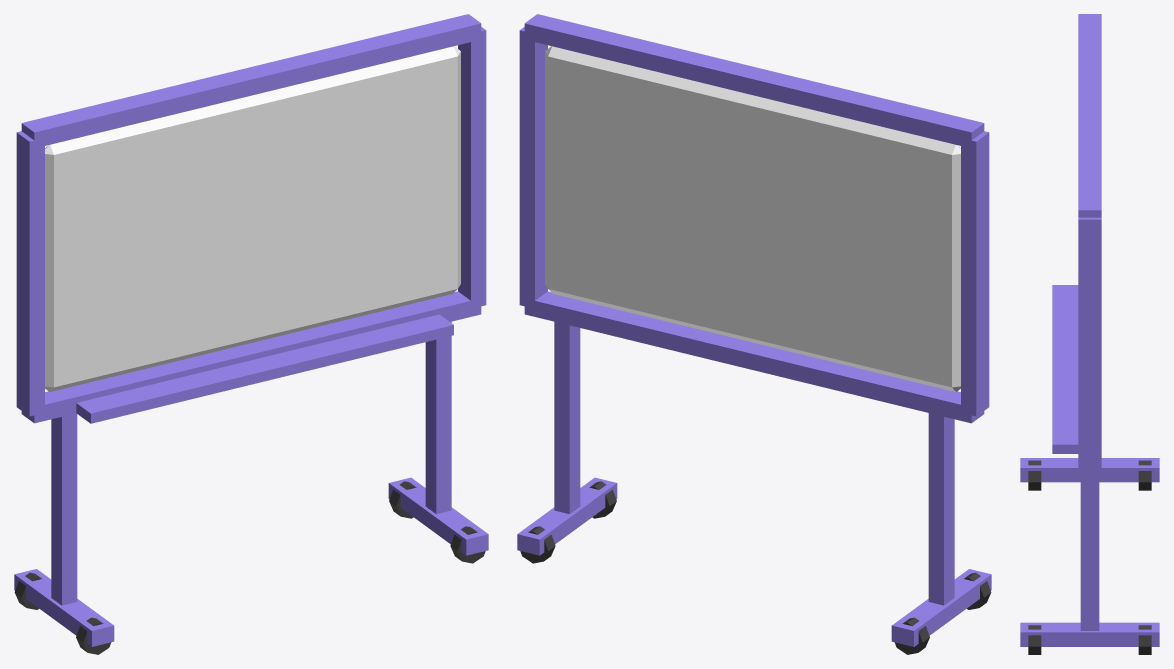
The picture shows the model from 3 angles, left to right: view 1: azimuth 30°, elevation 25°; view 2: azimuth 150°, elevation 25°; view 3: azimuth 270°, elevation 25°; orthographic projection. The views are drawn at different scales.
Visible parts, largest first — view 1: Writing surface, Frame rail.001, Marker ledge, Frame rail, Frame upright, Frame upright.001, Stand, Stand.001, Caster beam.001, Caster beam; view 2: Writing surface, Frame rail.001, Frame rail, Frame upright, Frame upright.001, Stand, Stand.001, Caster beam.001, Caster beam; view 3: Frame upright.001, Frame rail.001, Marker ledge, Stand.001, Caster beam.001, Caster beam, Wheel, Wheel.001, Wheel.002, Wheel.003.
Part boxes in pixels (bbox=[...]): Writing surface: bbox=[45, 46, 460, 391]; Frame rail.001: bbox=[21, 14, 481, 148]; Marker ledge: bbox=[76, 314, 453, 423]; Frame rail: bbox=[21, 291, 481, 423]; Frame upright: bbox=[16, 131, 44, 416]; Frame upright.001: bbox=[458, 27, 486, 306]; Stand: bbox=[51, 413, 77, 605]; Stand.001: bbox=[425, 321, 451, 514]; Caster beam.001: bbox=[388, 477, 488, 555]; Caster beam: bbox=[14, 569, 114, 646]; Writing surface: bbox=[545, 46, 960, 391]; Frame rail.001: bbox=[524, 14, 984, 148]; Frame rail: bbox=[524, 291, 984, 423]; Frame upright: bbox=[961, 131, 989, 416]; Frame upright.001: bbox=[519, 27, 547, 307]; Stand: bbox=[928, 413, 954, 605]; Stand.001: bbox=[554, 321, 580, 514]; Caster beam.001: bbox=[517, 477, 617, 555]; Caster beam: bbox=[891, 569, 991, 646]; Frame upright.001: bbox=[1078, 217, 1101, 467]; Frame rail.001: bbox=[1078, 14, 1101, 217]; Marker ledge: bbox=[1052, 285, 1078, 453]; Stand.001: bbox=[1080, 472, 1099, 630]; Caster beam.001: bbox=[1020, 622, 1159, 646]; Caster beam: bbox=[1020, 458, 1159, 482]; Wheel: bbox=[1028, 460, 1041, 490]; Wheel.001: bbox=[1138, 460, 1151, 490]; Wheel.002: bbox=[1028, 625, 1041, 654]; Wheel.003: bbox=[1138, 625, 1151, 654].
Size of the model in its own units: 1.64 by 1.75 by 0.48.
1 material, 1 textured.
